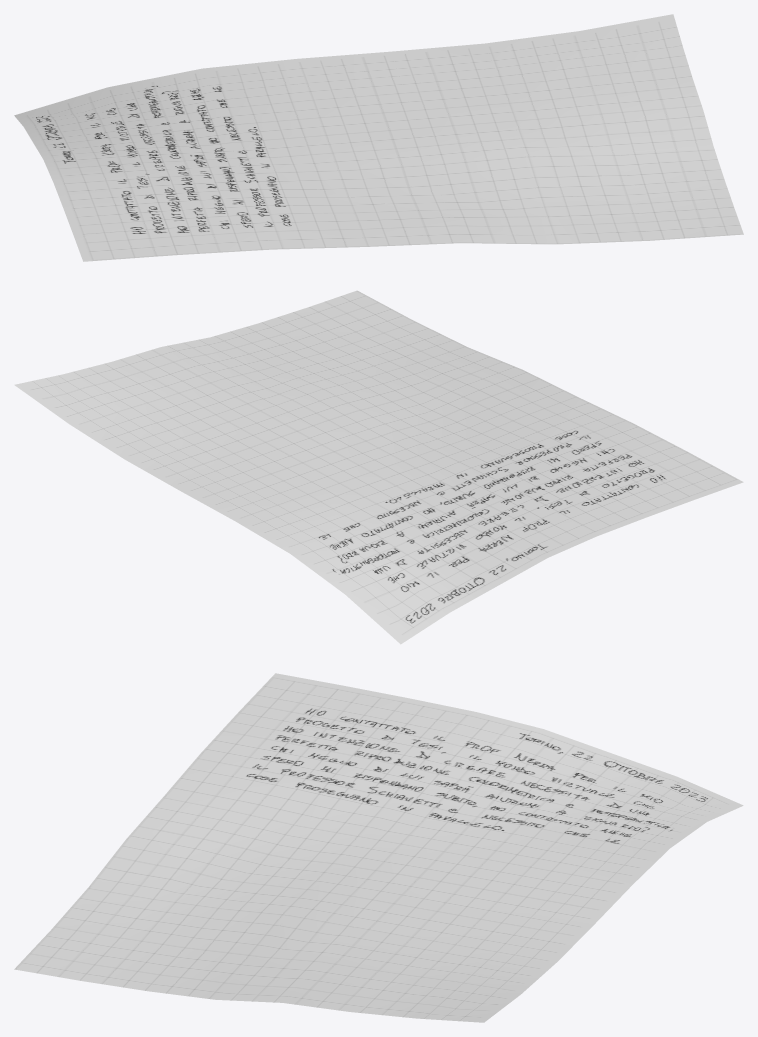
File: Pagina1.fbx
3 views of the same model, one above another, from view 1: azimuth 30°, elevation 25°; view 2: azimuth 150°, elevation 25°; view 3: azimuth 270°, elevation 25° (orthographic). The views are drawn at different scales.
Visible parts, largest first — view 1: foglio.004; view 2: foglio.004; view 3: foglio.004.
Part boxes in pixels (x1,y1,x2,y2): foglio.004: (14, 14, 743, 261); foglio.004: (14, 290, 743, 644); foglio.004: (14, 673, 743, 1022).
Bounding box in the file's own units: 80.05 × 6.58 × 68.86.
